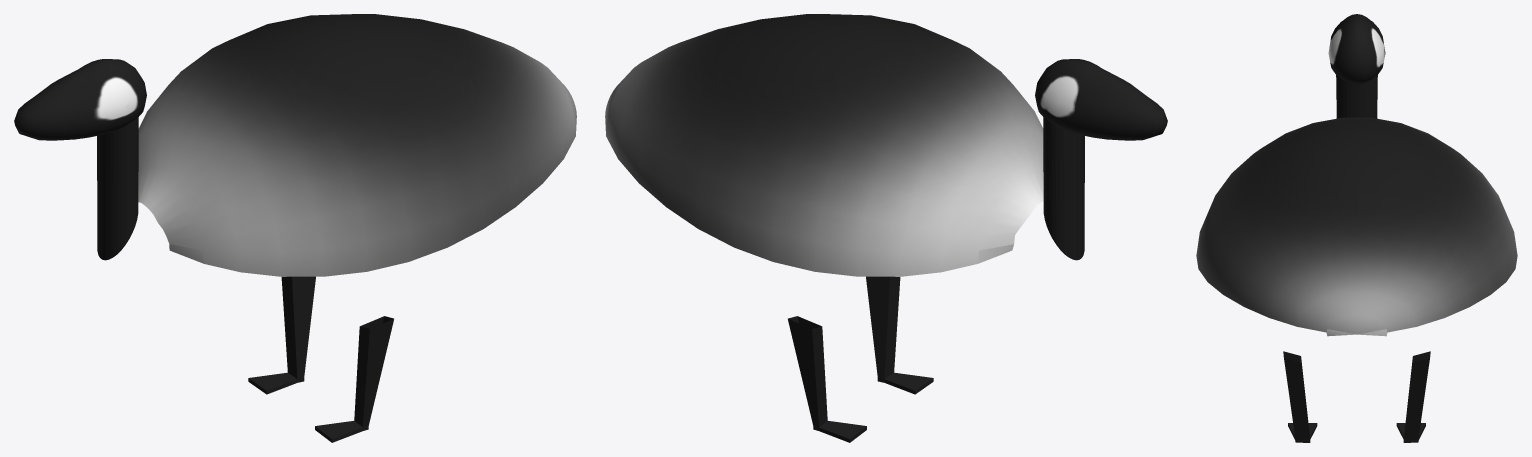
Rendered from pond_goose.fbx.
3 views of the same model, side by side, from view 1: azimuth 30°, elevation 25°; view 2: azimuth 150°, elevation 25°; view 3: azimuth 270°, elevation 25° (orthographic). The views are drawn at different scales.
Visible parts, largest first — view 1: goose; view 2: goose; view 3: goose.
Part boxes in pixels (bbox=[...]): goose: bbox=[14, 14, 576, 442]; goose: bbox=[605, 14, 1167, 442]; goose: bbox=[1196, 14, 1517, 442].
Size of the model in its own units: 63.87 by 44.05 by 39.12.
